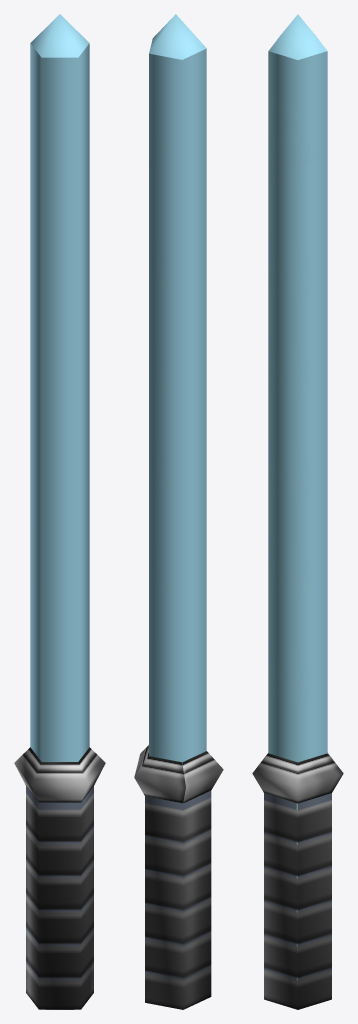
File: lightsaber.FBX
3 renders of one model, left to right at view 1: azimuth 90°, elevation 25°; view 2: azimuth 210°, elevation 25°; view 3: azimuth 270°, elevation 25°, orthographic.
Parts seen in each view (by area): view 1: lightsaber; view 2: lightsaber; view 3: lightsaber.
Part boxes in pixels (left/top/right/bottom): lightsaber: left=14, top=14, right=105, bottom=1009; lightsaber: left=134, top=14, right=223, bottom=1009; lightsaber: left=252, top=14, right=343, bottom=1009.
Size of the model in its own units: 9.19 by 116 by 9.66.
